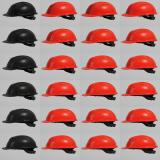Helmet: (40, 130, 79, 158), (78, 130, 120, 156), (118, 131, 160, 156), (40, 0, 80, 23), (40, 54, 79, 77), (1, 132, 38, 156), (0, 53, 39, 75), (2, 80, 39, 102), (0, 27, 38, 48), (81, 55, 119, 76), (42, 27, 78, 49), (119, 80, 158, 100), (120, 108, 159, 128), (81, 0, 118, 21), (121, 54, 158, 75), (81, 107, 118, 128), (80, 28, 118, 48), (2, 1, 38, 22), (41, 108, 78, 128), (2, 109, 39, 129), (82, 82, 120, 101), (122, 28, 158, 48), (121, 2, 157, 21), (41, 82, 77, 101)
